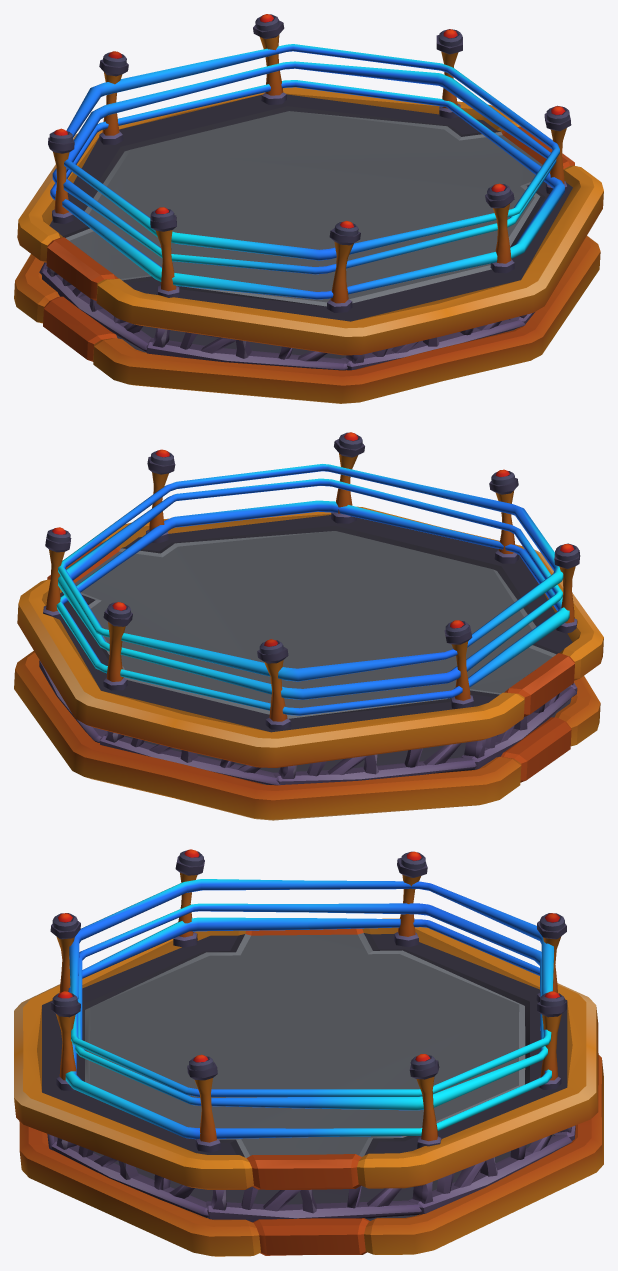
Rendered from SM_Platform_Tower_01.fbx.
3 renders of one model, top to bottom at view 1: azimuth 30°, elevation 25°; view 2: azimuth 150°, elevation 25°; view 3: azimuth 270°, elevation 25°, orthographic. The views are drawn at different scales.
Parts seen in each view (by area): view 1: SM_Platform_Tower_01; view 2: SM_Platform_Tower_01; view 3: SM_Platform_Tower_01.
Boxes of the visible parts, left/top/right/bottom form: SM_Platform_Tower_01: left=14, top=14, right=603, bottom=403; SM_Platform_Tower_01: left=14, top=432, right=603, bottom=820; SM_Platform_Tower_01: left=14, top=849, right=603, bottom=1256.
Bounding box in the file's own units: 24.75 × 8.49 × 24.87.
